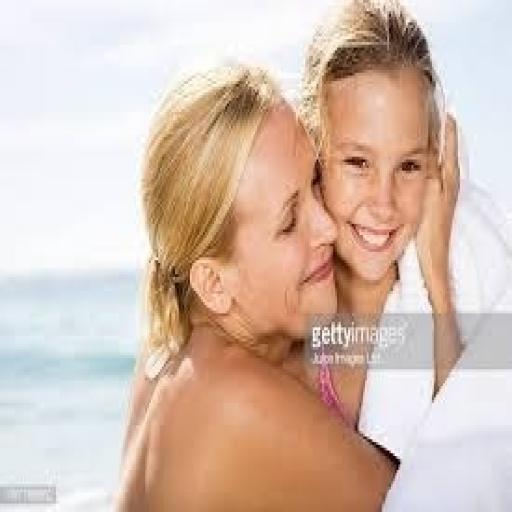hugging: (110, 0, 508, 509)
